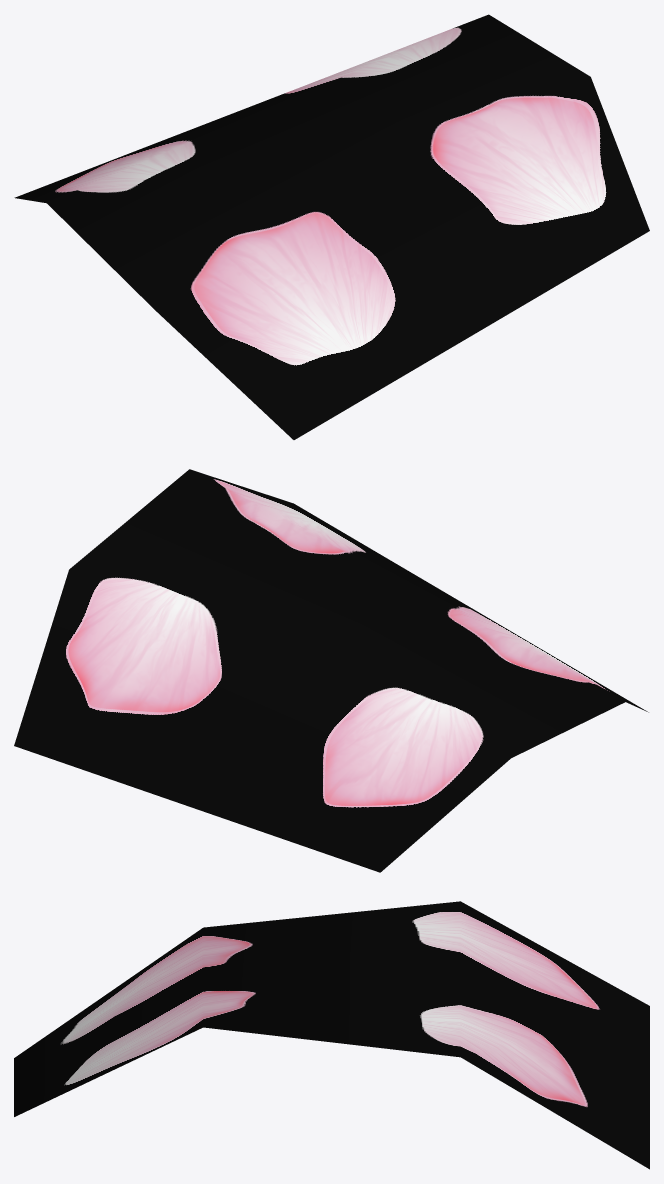
The model's file is CherryPetal_Mesh.fbx.
The picture shows the model from 3 angles, top to bottom: view 1: azimuth 30°, elevation 25°; view 2: azimuth 150°, elevation 25°; view 3: azimuth 270°, elevation 25°; orthographic projection. The views are drawn at different scales.
Visible parts, largest first — view 1: PetalMesh; view 2: PetalMesh; view 3: PetalMesh.
Boxes of the visible parts, <box> form: PetalMesh: <box>14,14,649,439</box>; PetalMesh: <box>14,469,648,872</box>; PetalMesh: <box>14,901,649,1169</box>.
Size of the model in its own units: 74.54 by 33.8 by 79.65.
